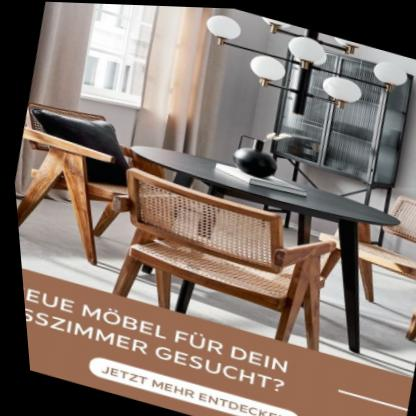Curtains: (27, 1, 214, 152)
